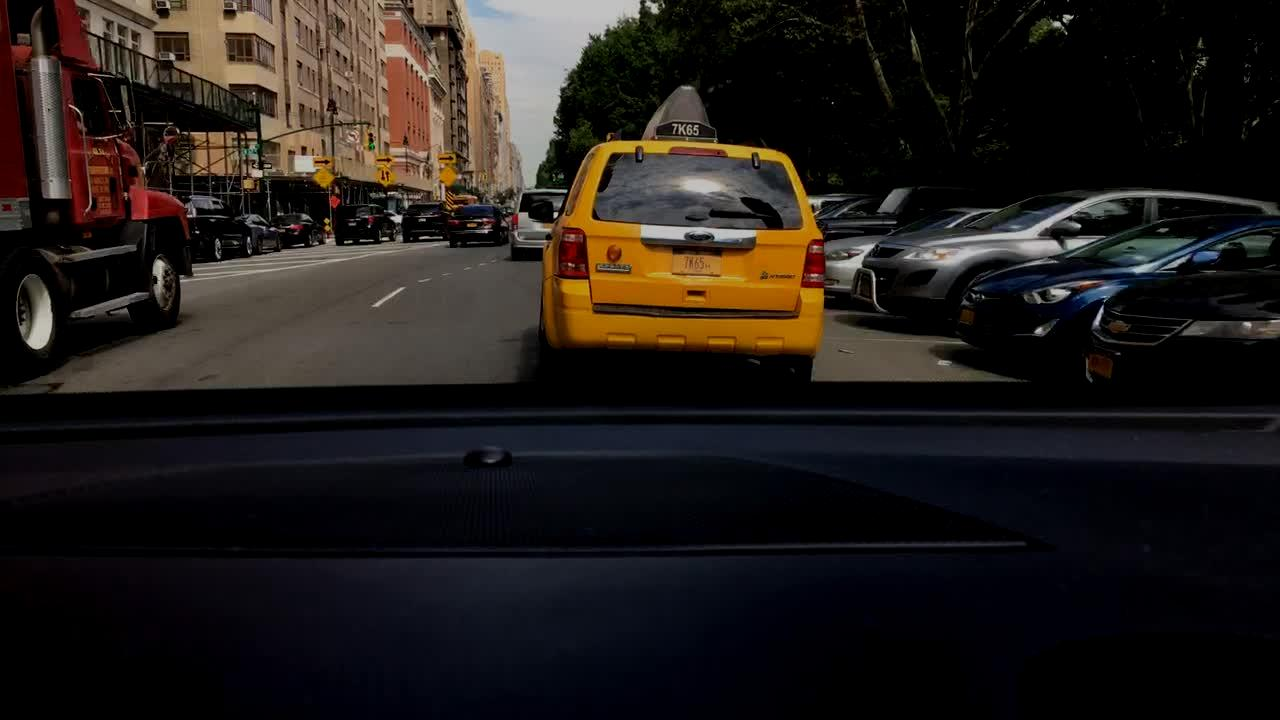ford: (684, 229, 718, 243)
